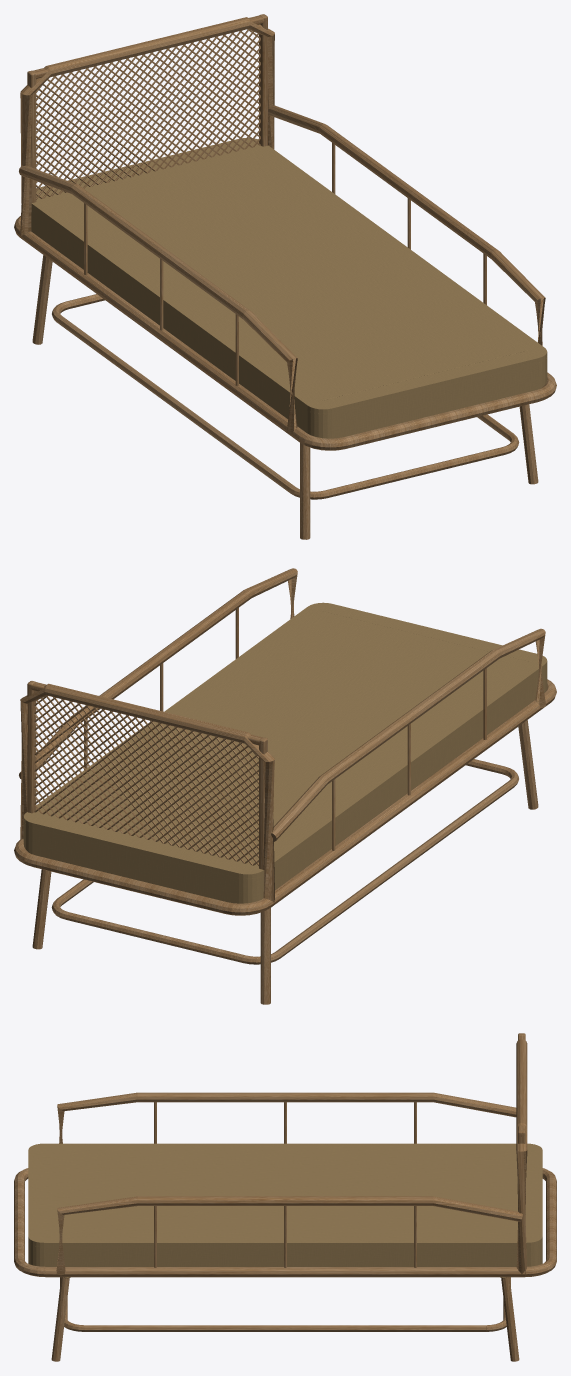
The model's file is designed-sunroom-chaise.glb.
3 views of the same model, one above another, from view 1: azimuth 30°, elevation 25°; view 2: azimuth 150°, elevation 25°; view 3: azimuth 270°, elevation 25° (orthographic). The views are drawn at different scales.
Visible parts, largest first — view 1: designed-sunroom-chaise authored assembly; view 2: designed-sunroom-chaise authored assembly; view 3: designed-sunroom-chaise authored assembly.
Boxes of the visible parts, <box> form: designed-sunroom-chaise authored assembly: <box>14,14,556,539</box>; designed-sunroom-chaise authored assembly: <box>14,568,556,1004</box>; designed-sunroom-chaise authored assembly: <box>14,1033,556,1361</box>.
Size of the model in its own units: 0.8 by 0.8 by 1.7.
Materials: 4 (3 with a texture image).
